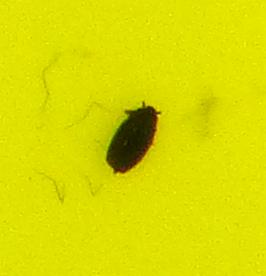Coleoptera: (100, 100, 166, 176)
